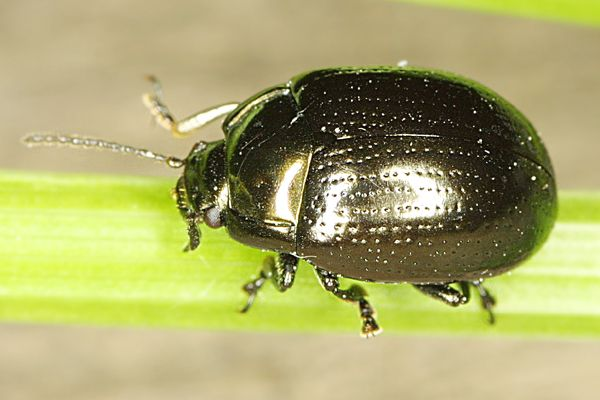Chrysolina_oricalcia: (18, 50, 558, 343)
